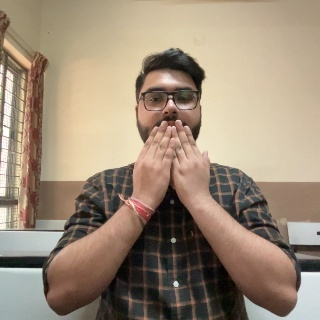Thank You: (129, 119, 216, 207)
